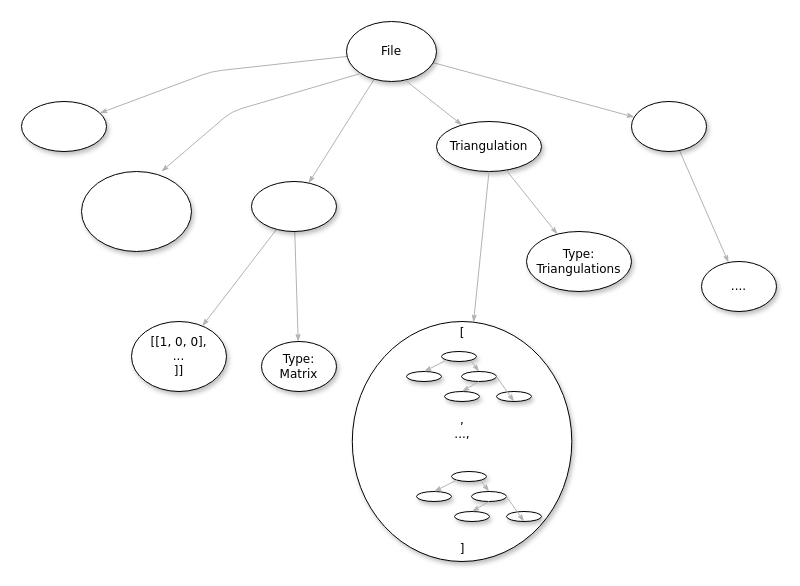
The diagram is 800 pixels wide and 586 high, and some of its shapes have lost their labels. Here are the shapes that lost their labels. From the top down, the centre of each, then its label:
At [64,127]: "Namespace: polymake".
At [669,127]: "attributes".
At [137,212]: "Type: Polytope".
At [294,207]: "Vertices".
